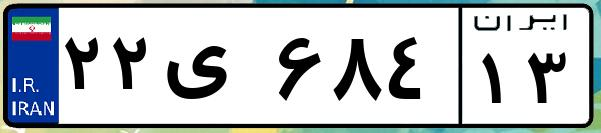1: (475, 38, 525, 113)
2: (57, 26, 110, 100), (110, 28, 158, 98)
3: (525, 38, 570, 115)
4: (385, 28, 445, 110)
6: (270, 28, 330, 110)
8: (330, 28, 385, 110)
ی: (158, 20, 270, 120)
